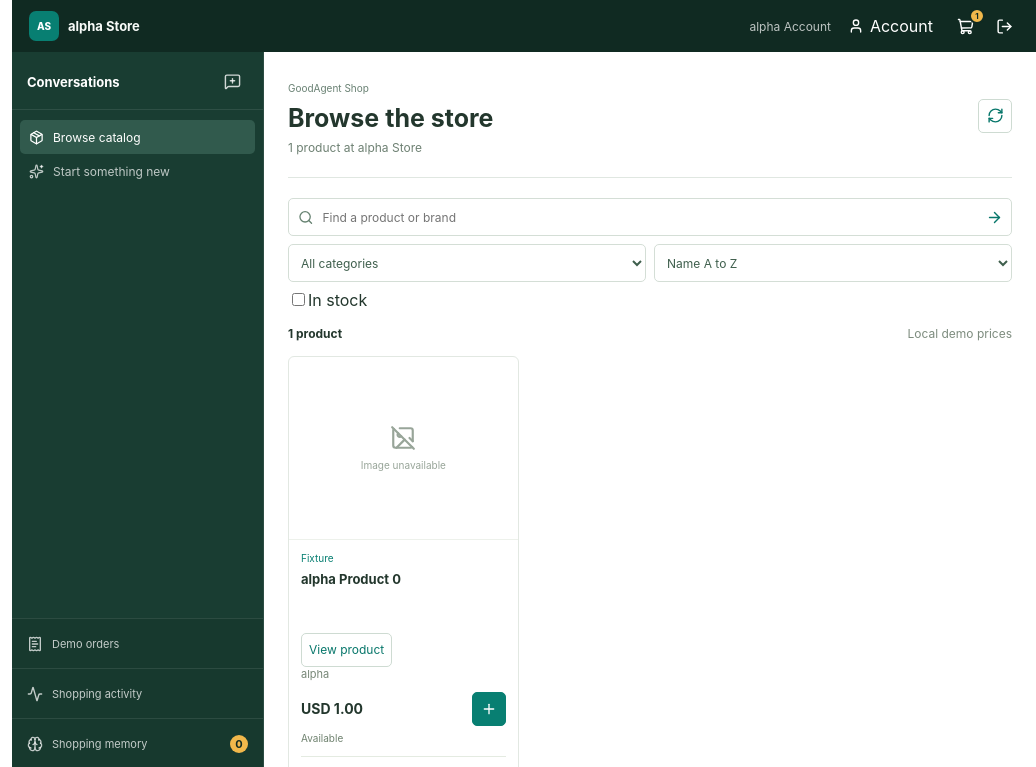
it: real store route and transport › retains normal catalog failure behavior for 403/STORE_REQUEST_BLOCKED
Expected: the heading "alpha Product 0" is shown, [301, 571, 401, 587]
Click the button named "Refresh catalog": (995, 116) [978, 98, 1012, 132]
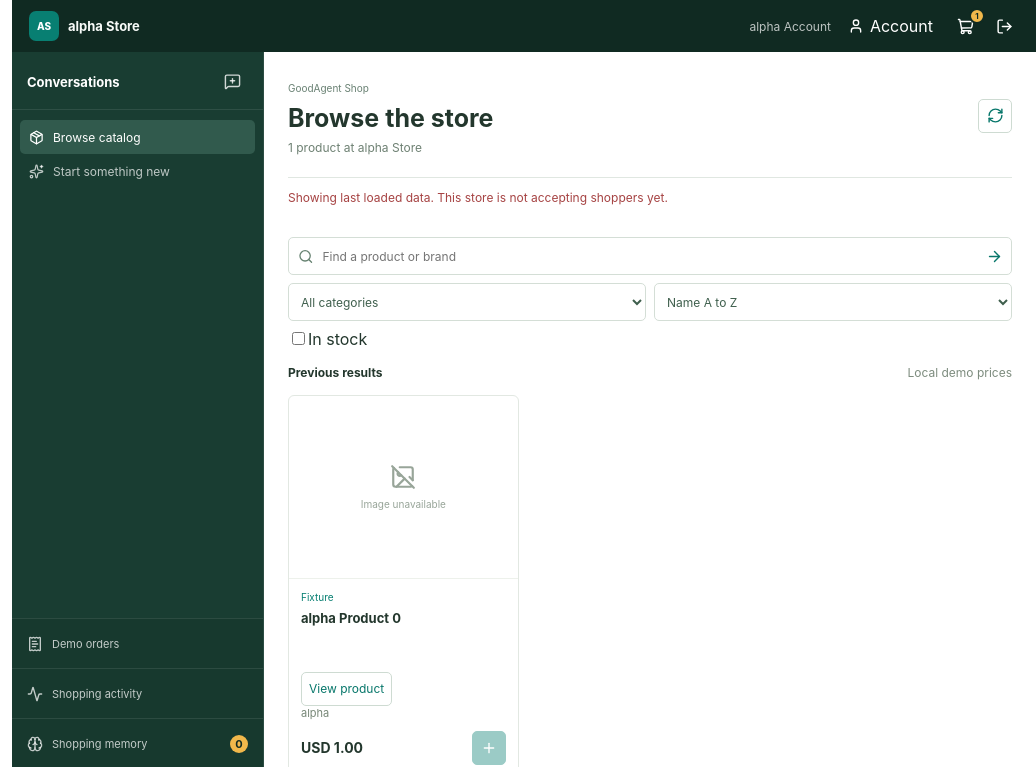
Expected: the heading "alpha Product 0" is shown, [301, 610, 401, 626]
Expected: the message "Showing last loaded data. This store is not accepting shoppers yet." is shown, [288, 190, 668, 205]
